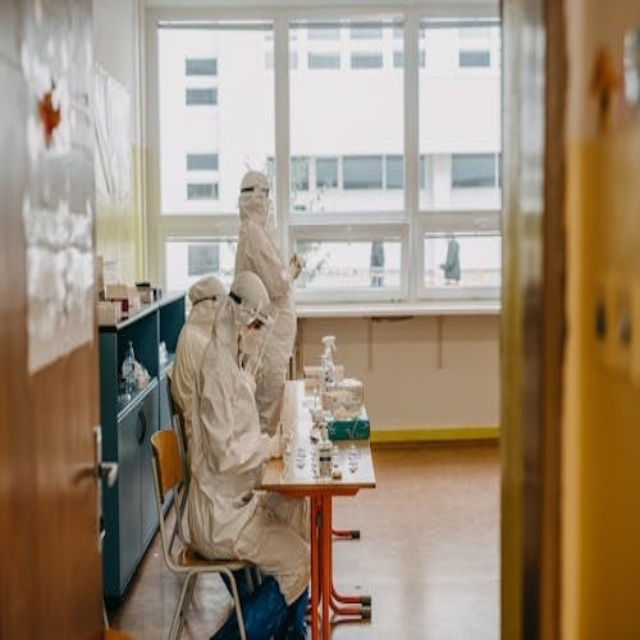Mascara: (238, 323, 264, 357), (250, 190, 273, 221)
